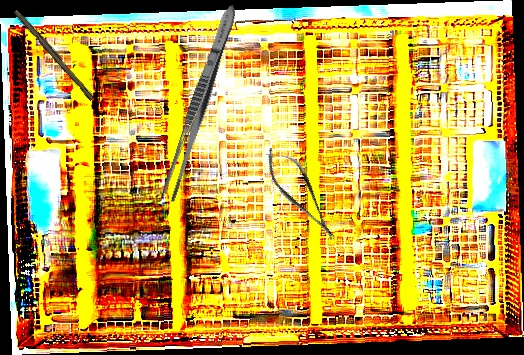Dressing Forceps: (158, 1, 242, 205)
Micro Scissor: (256, 138, 346, 250)
Scalpel Handle: (12, 8, 97, 101)
